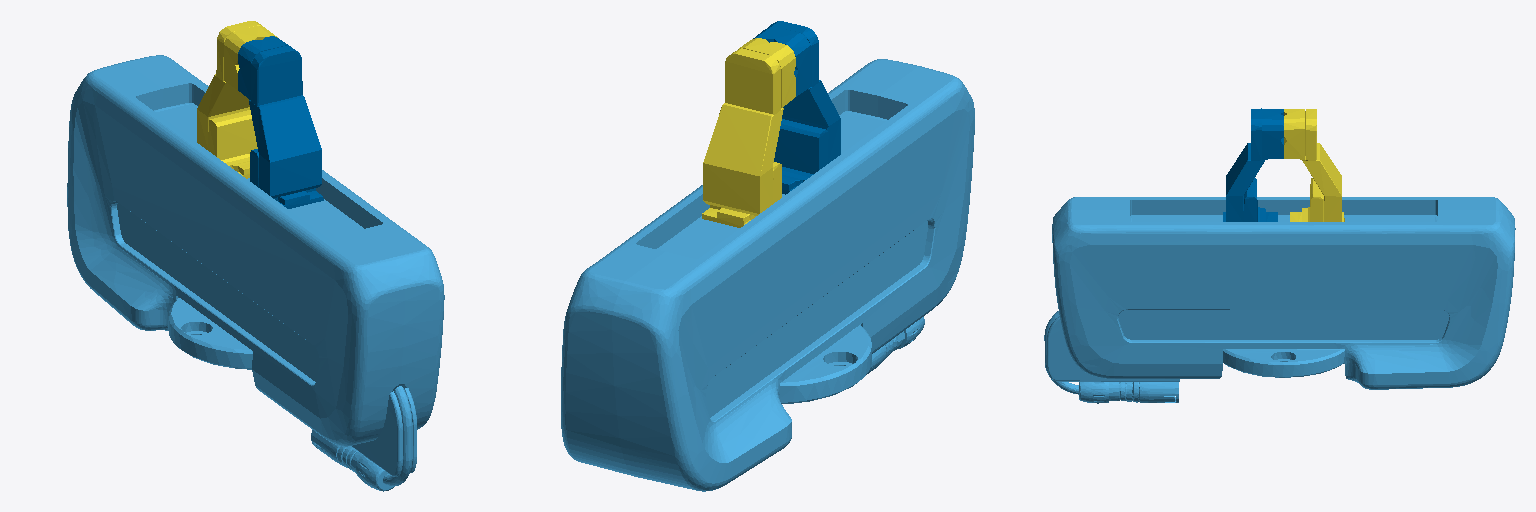
The robot description file, URDF, robot "panda_gripper":
<?xml version='1.0' encoding='utf-8'?>
<robot name="panda_gripper">
  <link name="hand_root" />
  <joint name="hand_root_joint" type="fixed">
    <origin rpy="0 0 0" xyz="0 0 0" />
    <parent link="hand_root" />
    <child link="panda_hand" />
  </joint>
  <mujoco>
    <compiler balanceinertia="true" discardvisual="false" fusestatic="false" inertiafromgeom="false" />
  </mujoco>
  <link name="panda_hand">
    <visual name="panda_hand_hand_visual000">
      <geometry>
        <mesh filename="meshes/visual/hand_visual000.obj" />
      </geometry>
    </visual>
    <visual name="panda_hand_hand_visual001">
      <geometry>
        <mesh filename="meshes/visual/hand_visual001.obj" />
      </geometry>
    </visual>
    <visual name="panda_hand_hand_visual002">
      <geometry>
        <mesh filename="meshes/visual/hand_visual002.obj" />
      </geometry>
    </visual>
    <visual name="panda_hand_hand_visual003">
      <geometry>
        <mesh filename="meshes/visual/hand_visual003.obj" />
      </geometry>
    </visual>
    <visual name="panda_hand_hand_visual004">
      <geometry>
        <mesh filename="meshes/visual/hand_visual004.obj" />
      </geometry>
    </visual>
    <collision>
      <origin rpy="1.570795 0 0" xyz="0 0 0.02617" />
      <geometry>
        <box size="0.036 0.08 0.2" />
      </geometry>
    </collision>
    <collision>
      <origin rpy="0 0 0" xyz="0 0 0.0003" />
      <geometry>
        <cylinder radius="0.03" length="0.0077" />
      </geometry>
    </collision>
    <inertial>
      <origin rpy="0 0 0" xyz="-0.01 0 0.03" />
      <mass value="0.73" />
      <inertia ixx="0.001" ixy="0" ixz="0" iyy="0.0025" iyz="0" izz="0.0017" />
    </inertial>
  </link>
  <link name="panda_hand_tcp" />
  <joint name="panda_hand_tcp_joint" type="fixed">
    <origin rpy="0 0 0" xyz="0 0 0.1034" />
    <parent link="panda_hand" />
    <child link="panda_hand_tcp" />
  </joint>
  <link name="panda_leftfinger">
    <visual name="panda_leftfinger_finger_visual000">
      <geometry>
        <mesh filename="meshes/visual/finger_visual000.obj" />
      </geometry>
    </visual>
    <visual name="panda_leftfinger_finger_visual001">
      <geometry>
        <mesh filename="meshes/visual/finger_visual001.obj" />
      </geometry>
    </visual>
    <collision>
      <origin rpy="0 0 0" xyz="0 18.5e-3 11e-3" />
      <geometry>
        <box size="22e-3 15e-3 20e-3" />
      </geometry>
    </collision>
    <collision>
      <origin rpy="0 0 0" xyz="0 6.8e-3 2.2e-3" />
      <geometry>
        <box size="22e-3 8.8e-3 3.8e-3" />
      </geometry>
    </collision>
    <collision>
      <origin rpy="0.5235987755982988 0 0" xyz="0 15.9e-3 28.35e-3" />
      <geometry>
        <box size="17.5e-3 7e-3 23.5e-3" />
      </geometry>
    </collision>
    <collision>
      <origin rpy="0 0 0" xyz="0 7.58e-3 45.25e-3" />
      <geometry>
        <box size="17.5e-3 15.2e-3 18.5e-3" />
      </geometry>
    </collision>
    <inertial>
      <origin rpy="0 0 0" xyz="0 0 0" />
      <mass value="0.015" />
      <inertia ixx="2.3749999999999997e-06" ixy="0" ixz="0" iyy="2.3749999999999997e-06" iyz="0" izz="7.5e-07" />
    </inertial>
  </link>
  <link name="panda_rightfinger">
    <visual name="panda_rightfinger_finger_visual000">
      <origin rpy="0 0 3.141592653589793" xyz="0 0 0" />
      <geometry>
        <mesh filename="meshes/visual/finger_visual000.obj" />
      </geometry>
    </visual>
    <visual name="panda_rightfinger_finger_visual001">
      <origin rpy="0 0 3.141592653589793" xyz="0 0 0" />
      <geometry>
        <mesh filename="meshes/visual/finger_visual001.obj" />
      </geometry>
    </visual>
    <collision>
      <origin rpy="0 0 0" xyz="0 -18.5e-3 11e-3" />
      <geometry>
        <box size="22e-3 15e-3 20e-3" />
      </geometry>
    </collision>
    <collision>
      <origin rpy="0 0 0" xyz="0 -6.8e-3 2.2e-3" />
      <geometry>
        <box size="22e-3 8.8e-3 3.8e-3" />
      </geometry>
    </collision>
    <collision>
      <origin rpy="-0.5235987755982988 0 0" xyz="0 -15.9e-3 28.35e-3" />
      <geometry>
        <box size="17.5e-3 7e-3 23.5e-3" />
      </geometry>
    </collision>
    <collision>
      <origin rpy="0 0 0" xyz="0 -7.58e-3 45.25e-3" />
      <geometry>
        <box size="17.5e-3 15.2e-3 18.5e-3" />
      </geometry>
    </collision>
    <inertial>
      <origin rpy="0 0 0" xyz="0 0 0" />
      <mass value="0.015" />
      <inertia ixx="2.3749999999999997e-06" ixy="0" ixz="0" iyy="2.3749999999999997e-06" iyz="0" izz="7.5e-07" />
    </inertial>
  </link>
  <joint name="panda_finger_joint1" type="prismatic">
    <parent link="panda_hand" />
    <child link="panda_leftfinger" />
    <origin rpy="0 0 0" xyz="0 0 0.0584" />
    <axis xyz="0 1 0" />
    <limit effort="100" lower="0.0" upper="0.04" velocity="0.2" />
    <dynamics damping="0.3" />
  </joint>
  <joint name="panda_finger_joint2" type="prismatic">
    <parent link="panda_hand" />
    <child link="panda_rightfinger" />
    <origin rpy="0 0 0" xyz="0 0 0.0584" />
    <axis xyz="0 -1 0" />
    <limit effort="100" lower="0.0" upper="0.04" velocity="0.2" />
    <mimic joint="panda_finger_joint1" multiplier="1" offset="0" />
    <dynamics damping="0.3" />
  </joint>
</robot>

--- What the picture shows (computed from the rendered views, not written in the file) ---
The picture shows the robot from 3 angles, left to right: view 1: azimuth 30°, elevation 25°; view 2: azimuth 150°, elevation 25°; view 3: azimuth 270°, elevation 25°; orthographic projection.
Robot: panda_gripper — 5 links, 4 joints (2 prismatic, 2 fixed); root link hand_root; default pose: all joints at 0.
Visible links, largest first — view 1: panda_hand, panda_rightfinger, panda_leftfinger; view 2: panda_hand, panda_leftfinger, panda_rightfinger; view 3: panda_hand, panda_leftfinger, panda_rightfinger.
Boxes of the visible links, x1,y1,x2,y2 form: panda_hand: (67, 55, 444, 491); panda_rightfinger: (238, 36, 323, 208); panda_leftfinger: (197, 21, 277, 178); panda_hand: (561, 59, 974, 491); panda_leftfinger: (702, 38, 795, 227); panda_rightfinger: (753, 21, 840, 194); panda_hand: (1044, 197, 1515, 403); panda_leftfinger: (1284, 109, 1344, 221); panda_rightfinger: (1223, 108, 1283, 221).
Size in the robot's own frame: 0.063 by 0.2045 by 0.1382 metres.
Meshes: 7 distinct files referenced, 9 mesh visuals loaded (7 OBJ).
